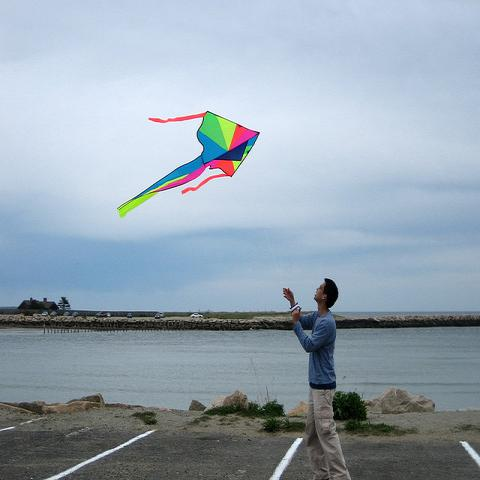car: (96, 312, 110, 318), (190, 313, 203, 318), (127, 311, 134, 318), (50, 311, 57, 317), (155, 313, 160, 319), (159, 312, 165, 317), (63, 312, 70, 316), (72, 312, 78, 316), (42, 312, 48, 316)
